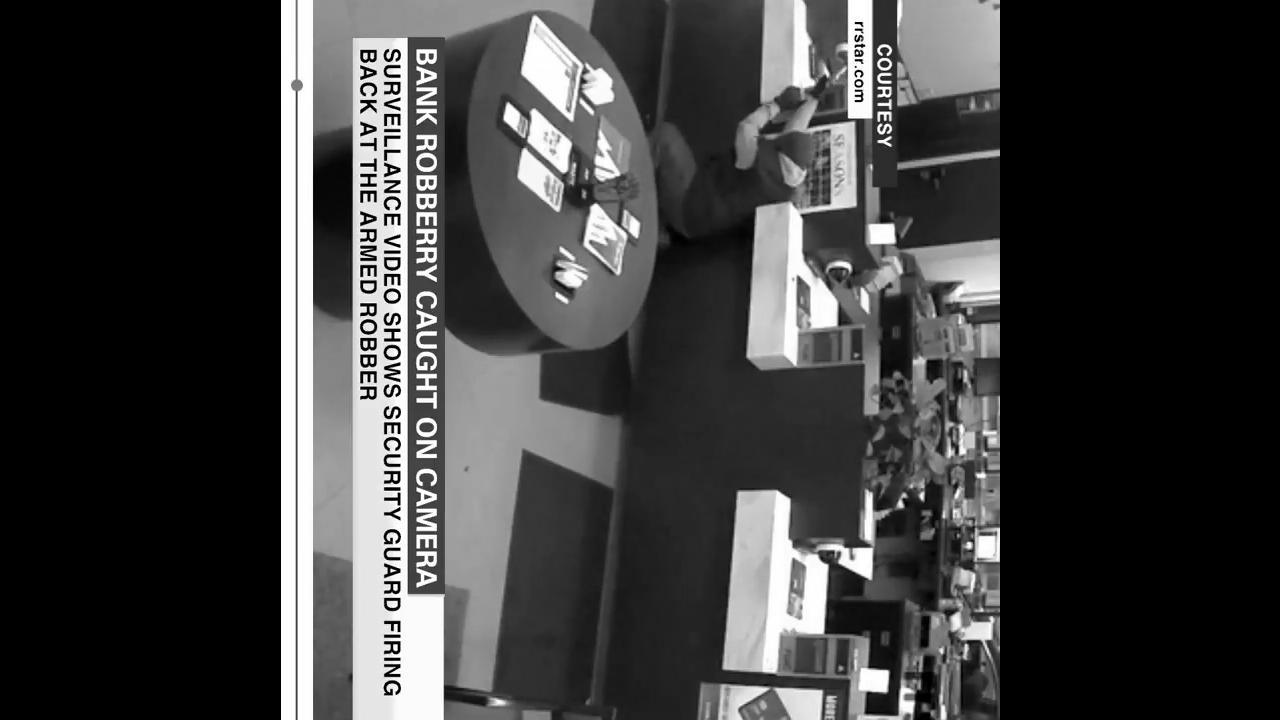gun: (814, 68, 844, 86)
